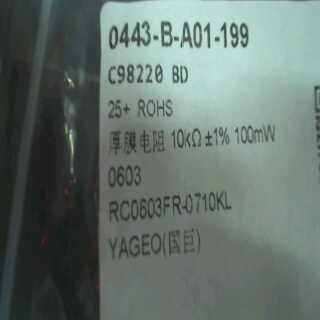10kR: (167, 124, 204, 154)
